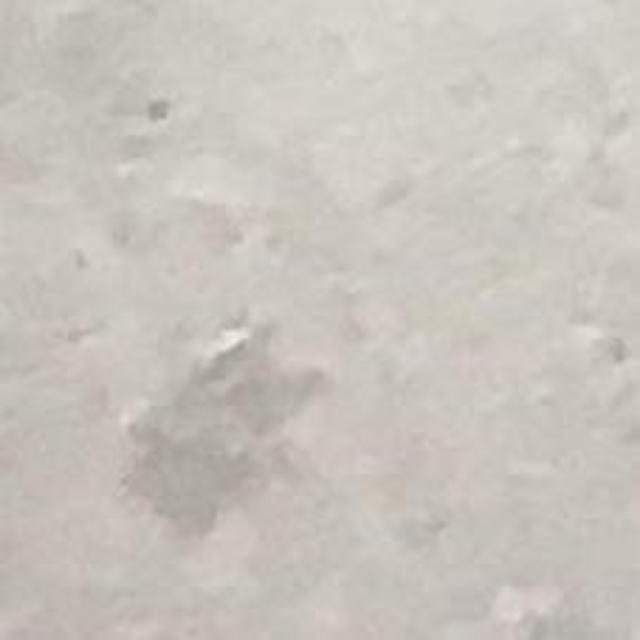peeling plaster: (125, 325, 321, 538)
